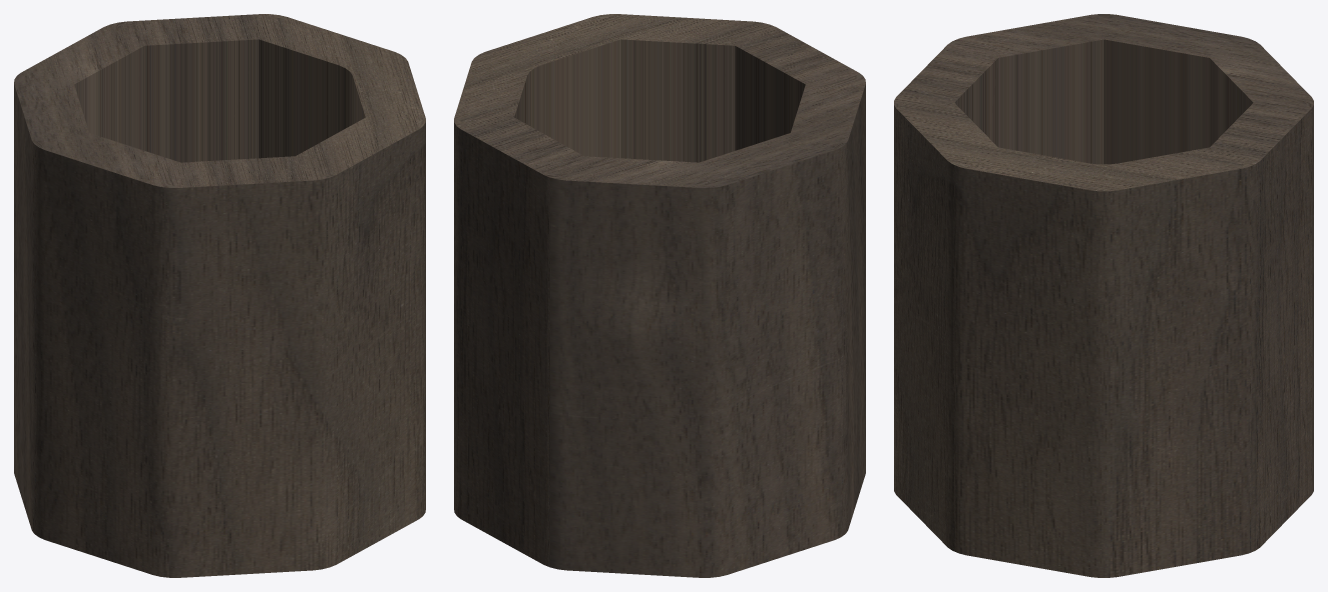
Rendered from Basua.fbx.
3 renders of one model, left to right at view 1: azimuth 30°, elevation 25°; view 2: azimuth 150°, elevation 25°; view 3: azimuth 270°, elevation 25°, orthographic.
Parts seen in each view (by area): view 1: Cylinder.001; view 2: Cylinder.001; view 3: Cylinder.001.
Part boxes in pixels (<box>): Cylinder.001: <box>14,14,425,577</box>; Cylinder.001: <box>454,14,865,577</box>; Cylinder.001: <box>894,14,1313,577</box>.
Bounding box in the file's own units: 253 × 257 × 253.
